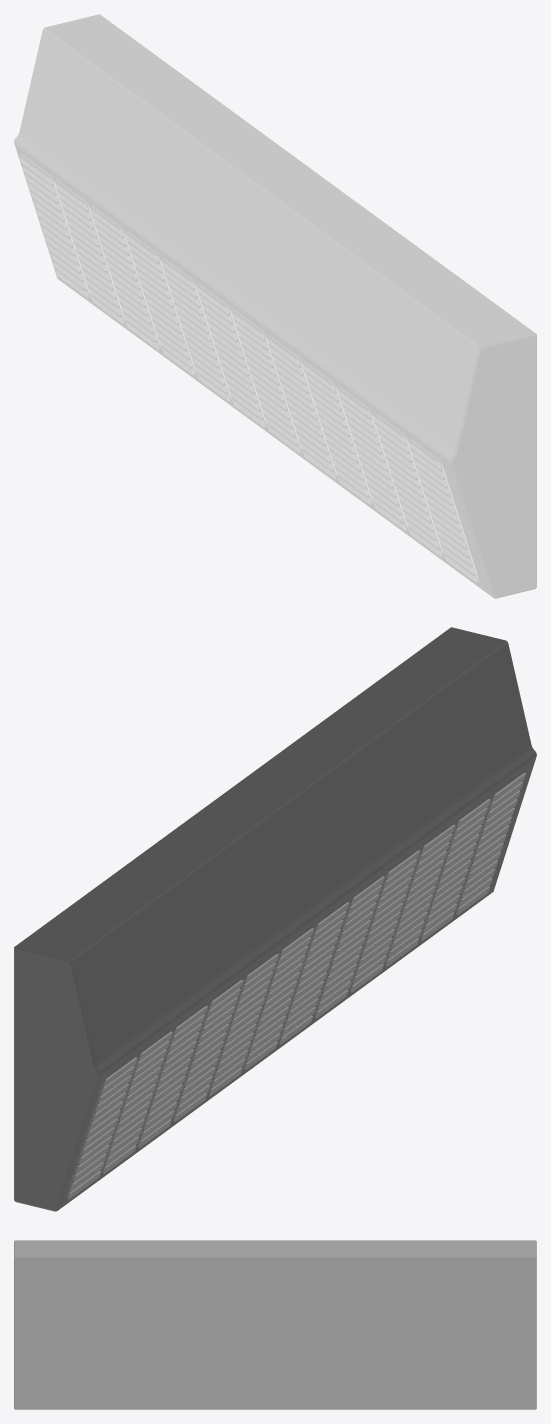
The model's file is AirConditioner_8c383e43.obj.
3 renders of one model, top to bottom at view 1: azimuth 30°, elevation 25°; view 2: azimuth 150°, elevation 25°; view 3: azimuth 270°, elevation 25°, orthographic. The views are drawn at different scales.
Parts seen in each view (by area): view 1: AirConditioner_8c383e43; view 2: AirConditioner_8c383e43; view 3: AirConditioner_8c383e43.
Boxes of the visible parts, left/top/right/bottom form: AirConditioner_8c383e43: left=14, top=14, right=536, bottom=598; AirConditioner_8c383e43: left=14, top=627, right=536, bottom=1211; AirConditioner_8c383e43: left=14, top=1240, right=536, bottom=1409.
Size of the model in its own units: 0.0715 by 0.1994 by 0.6177.
